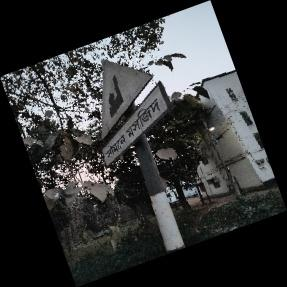Mosque in front: (99, 58, 173, 167)
